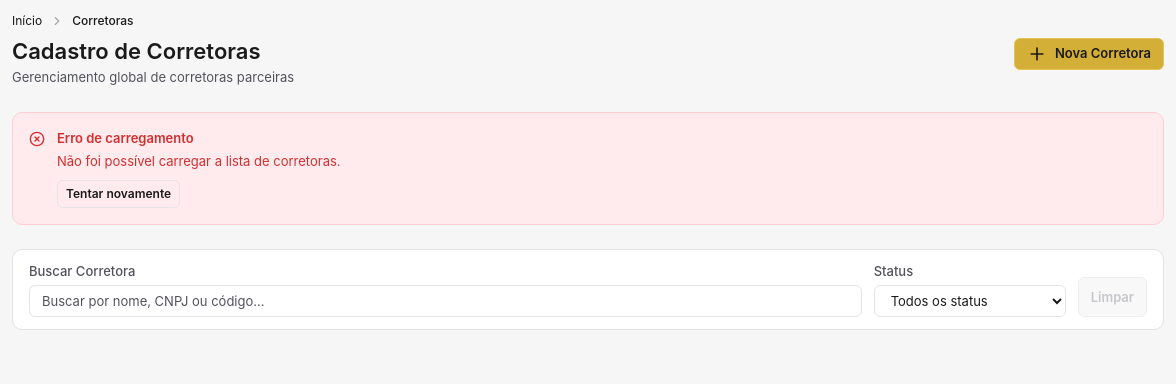
Test case: Consultas de corretoras › mostra erro, limpa erro ao trocar filtro e tenta novamente com os filtros atuais
This screenshot has width=1176, height=384.
Expected: the message is shown, [12,112,1164,225]
Select "Inativos" in the dropdown labelled "Status". click: [970, 301]
box: [874,285,1066,317]
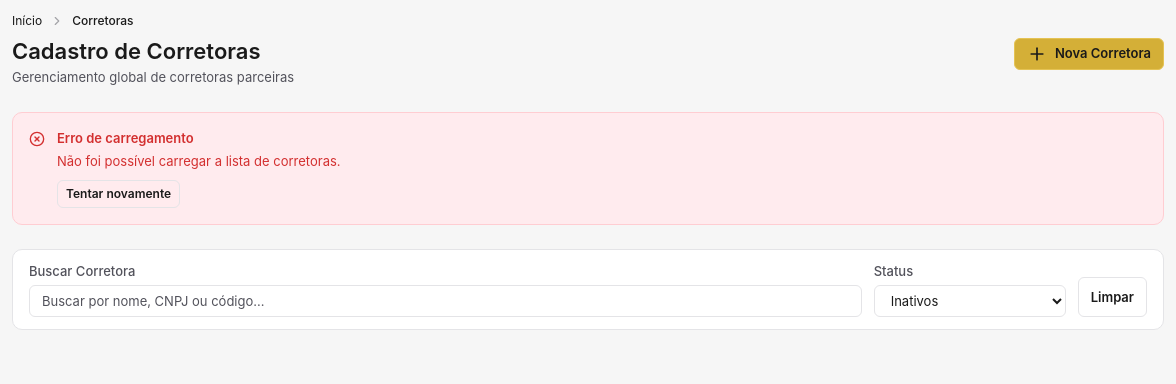
Click the button "Tentar novamente". click: [119, 194]
box: [57,180,180,208]
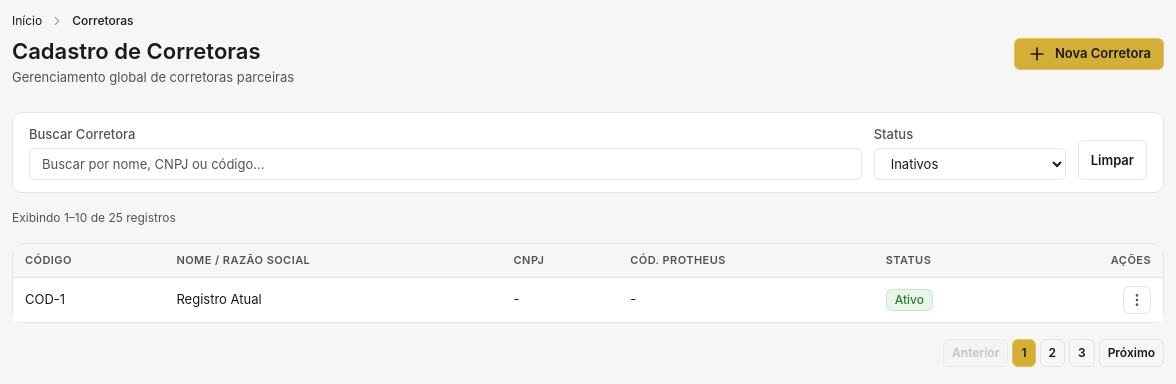
Now the message is gone
Now the text "Registro Atual" is shown, box [164,277,502,322]
